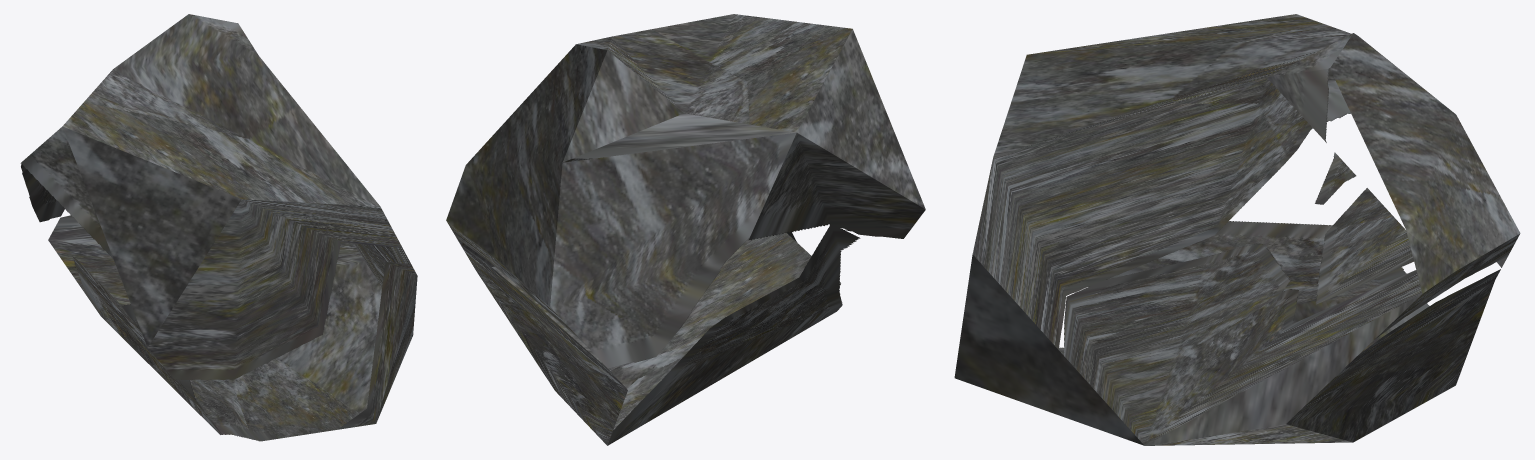
Rendered from rock3_small.fbx.
3 renders of one model, left to right at view 1: azimuth 30°, elevation 25°; view 2: azimuth 150°, elevation 25°; view 3: azimuth 270°, elevation 25°, orthographic. The views are drawn at different scales.
Visible parts, largest first — view 1: Cube.004; view 2: Cube.004; view 3: Cube.004.
Part boxes in pixels (x1,y1,x2,y2): Cube.004: (20,14,417,441); Cube.004: (446,14,925,445); Cube.004: (954,14,1520,445).
Bounding box in the file's own units: 471 × 461 × 619.
1 material, 1 textured.
